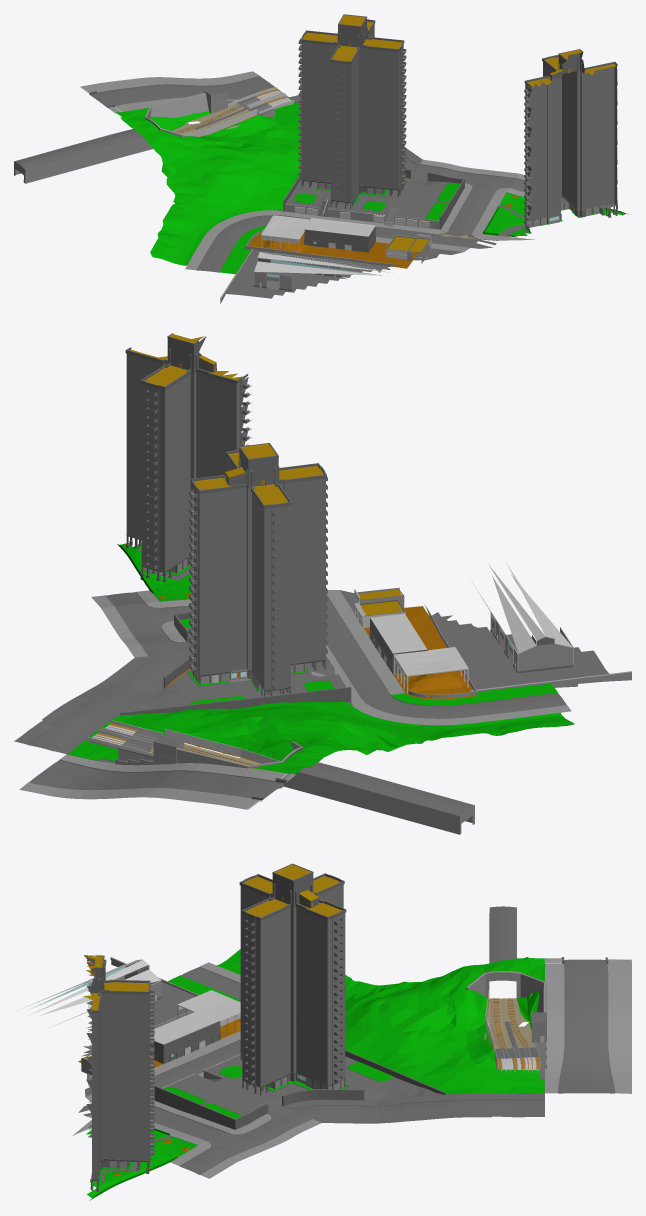
File: bronx_e_2.FBX
The picture shows the model from 3 angles, top to bottom: view 1: azimuth 30°, elevation 25°; view 2: azimuth 150°, elevation 25°; view 3: azimuth 270°, elevation 25°; orthographic projection. The views are drawn at different scales.
Visible parts, largest first — view 1: unnamed, null; view 2: unnamed, null; view 3: unnamed, null.
Boxes of the visible parts, <box> form: unnamed: <box>14,14,555,303</box>; null: <box>481,49,629,224</box>; unnamed: <box>14,363,631,834</box>; null: <box>91,333,216,627</box>; unnamed: <box>20,863,631,1152</box>; null: <box>83,955,267,1200</box>.
Size of the model in its own units: 263 by 103 by 266.
